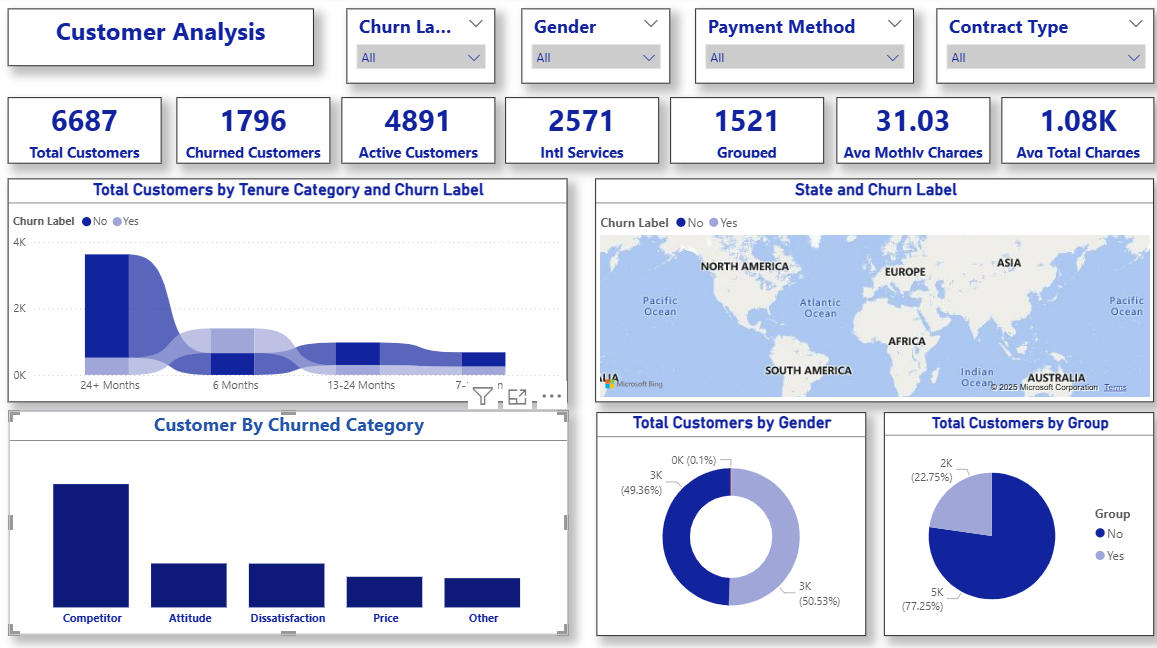

The page's visual inventory and layout, read from the dashboard file:
{"tool":"powerbi","page":{"name":"Customer Analysis","canvas":[1280,720],"ordinal":1},"visuals":[{"type":"card","fields":{"Values":["Databel - Data.Total Customers"]},"box":[9.6,111.1,168.8,72.7],"z":0},{"type":"textbox","box":[9.6,13.7,336.2,63.1],"z":1000},{"type":"slicer","fields":{"Values":["Databel - Data.Churn Label"]},"box":[381.5,13.7,163.3,82.3],"z":2000},{"type":"slicer","fields":{"Values":["Databel - Data.Gender"]},"box":[573.6,13.7,163.3,82.3],"z":3000},{"type":"slicer","fields":{"Values":["Databel - Data.Payment Method"]},"box":[764.3,13.7,240.1,82.3],"z":4000},{"type":"slicer","fields":{"Values":["Databel - Data.Contract Type"]},"box":[1029.2,13.7,240.1,82.3],"z":5000},{"type":"card","fields":{"Values":["Databel - Data.Churned Customers"]},"box":[194.9,111.1,168.8,72.7],"z":6000},{"type":"card","fields":{"Values":["Databel - Data.Active Customers"]},"box":[376,111.1,168.8,72.7],"z":7000},{"type":"card","fields":{"Values":["Databel - Data.Intl Services"]},"box":[555.7,111.1,168.8,72.7],"z":8000},{"type":"card","fields":{"Values":["Databel - Data.Grouped"]},"box":[736.9,111.1,168.8,72.7],"z":9000},{"type":"card","fields":{"Values":["Databel - Data.Avg Mothly Charges"]},"box":[919.4,111.1,168.8,72.7],"z":10000},{"type":"card","fields":{"Values":["Databel - Data.Avg Total Charges"]},"box":[1100.5,111.1,168.8,72.7],"z":11000},{"type":"ribbonChart","fields":{"Category":["Databel - Data.Tenure Category"],"Y":["Databel - Data.Total Customers"],"Series":["Databel - Data.Churn Label"]},"box":[9.6,200.3,614.8,245.6],"z":12000},{"type":"map","fields":{"Category":["Databel - Data.State"],"Series":["Databel - Data.Churn Label"]},"box":[654.5,200.3,614.8,245.6],"z":13000},{"type":"columnChart","title":"Customer By Churned Category","fields":{"Y":["Databel - Data.Total Customers"],"Category":["Databel - Data.Churn Category"]},"box":[11,456.9,613.4,244.3],"z":14000},{"type":"donutChart","fields":{"Category":["Databel - Data.Gender"],"Y":["Databel - Data.Total Customers"]},"box":[655.9,456.9,296.4,245.6],"z":15000},{"type":"pieChart","fields":{"Category":["Databel - Data.Group"],"Y":["Databel - Data.Total Customers"]},"box":[971.5,456.9,297.8,245.6],"z":16000}]}

Visuals, with their boxes in screenshot pixels (x1, y1, x2, y2), scaled from the page's 1280x720 canvas onto the 1157x648 screenshot:
card - Databel - Data.Total Customers: BBox(9, 100, 161, 165)
textbox: BBox(9, 12, 313, 69)
slicer - Databel - Data.Churn Label: BBox(345, 12, 492, 86)
slicer - Databel - Data.Gender: BBox(518, 12, 666, 86)
slicer - Databel - Data.Payment Method: BBox(691, 12, 908, 86)
slicer - Databel - Data.Contract Type: BBox(930, 12, 1147, 86)
card - Databel - Data.Churned Customers: BBox(176, 100, 329, 165)
card - Databel - Data.Active Customers: BBox(340, 100, 492, 165)
card - Databel - Data.Intl Services: BBox(502, 100, 655, 165)
card - Databel - Data.Grouped: BBox(666, 100, 819, 165)
card - Databel - Data.Avg Mothly Charges: BBox(831, 100, 984, 165)
card - Databel - Data.Avg Total Charges: BBox(995, 100, 1147, 165)
ribbonChart - Databel - Data.Tenure Category x Databel - Data.Total Customers: BBox(9, 180, 564, 401)
map - Databel - Data.State x Databel - Data.Churn Label: BBox(592, 180, 1147, 401)
"Customer By Churned Category" columnChart: BBox(10, 411, 564, 631)
donutChart - Databel - Data.Gender x Databel - Data.Total Customers: BBox(593, 411, 861, 632)
pieChart - Databel - Data.Group x Databel - Data.Total Customers: BBox(878, 411, 1147, 632)
